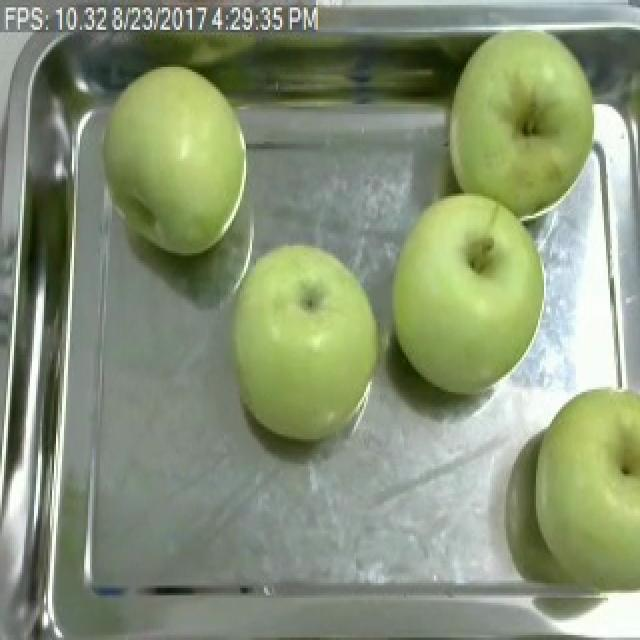50-_ripeness: (103, 55, 255, 262), (233, 236, 380, 446), (440, 25, 602, 208), (395, 199, 550, 389)
